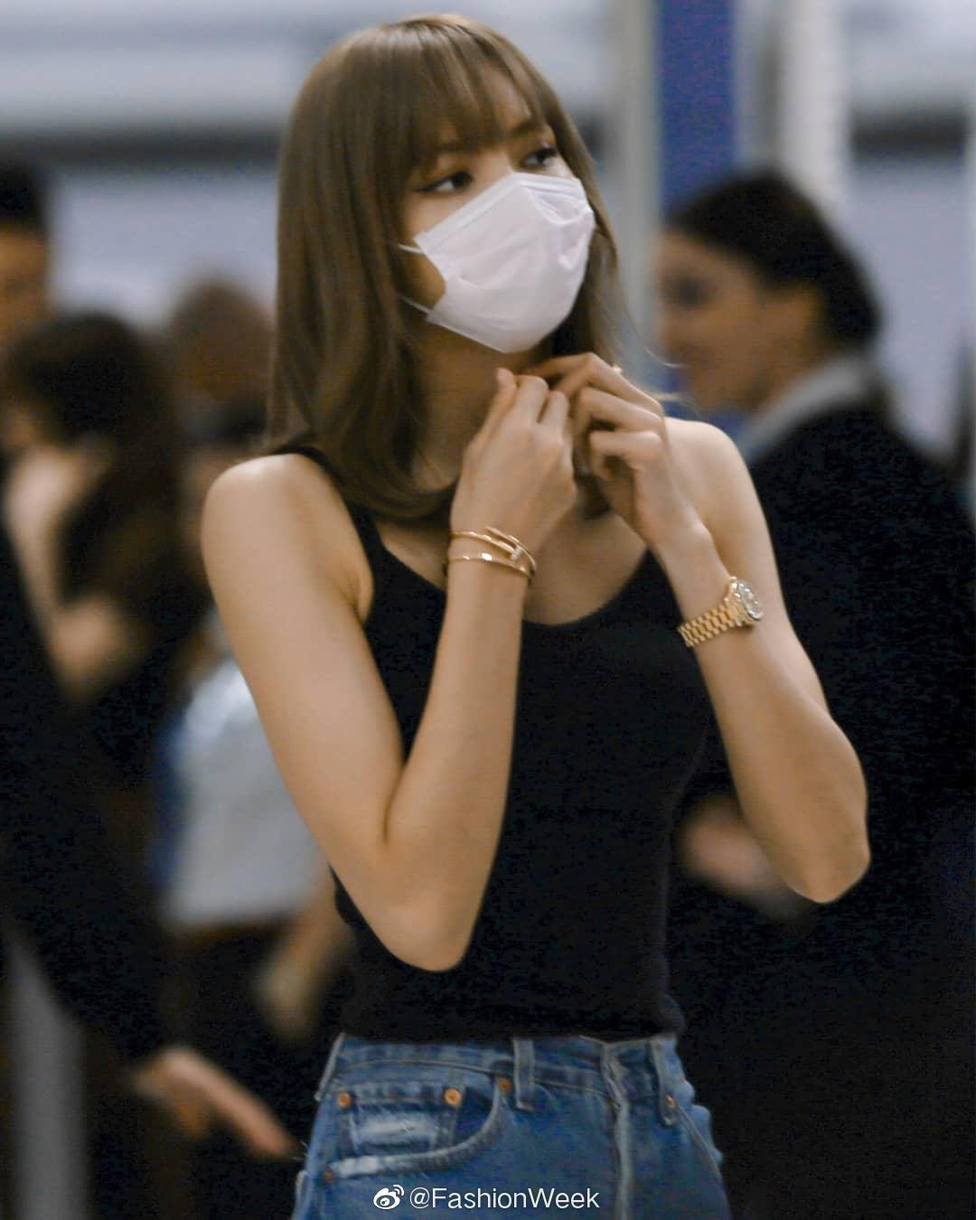NONE: (662, 245, 765, 408)
OK: (405, 113, 597, 355)
